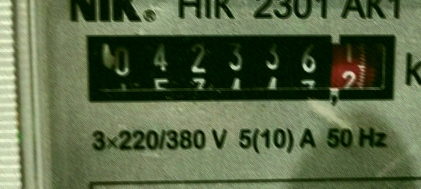0: (110, 43, 129, 76)
1: (340, 37, 352, 63)
2: (186, 39, 207, 73), (337, 68, 354, 89)
3: (223, 38, 241, 70), (262, 38, 279, 70)
4: (150, 39, 167, 71)
6: (297, 40, 317, 74)
screen: (72, 20, 407, 111)
